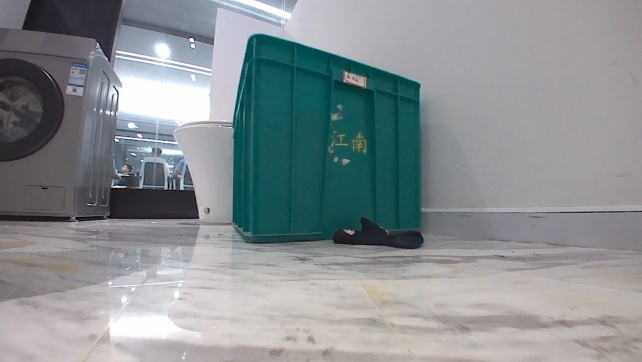socks: (328, 215, 427, 253)
toilet: (167, 118, 234, 226)
washing_machine: (0, 25, 124, 223)
